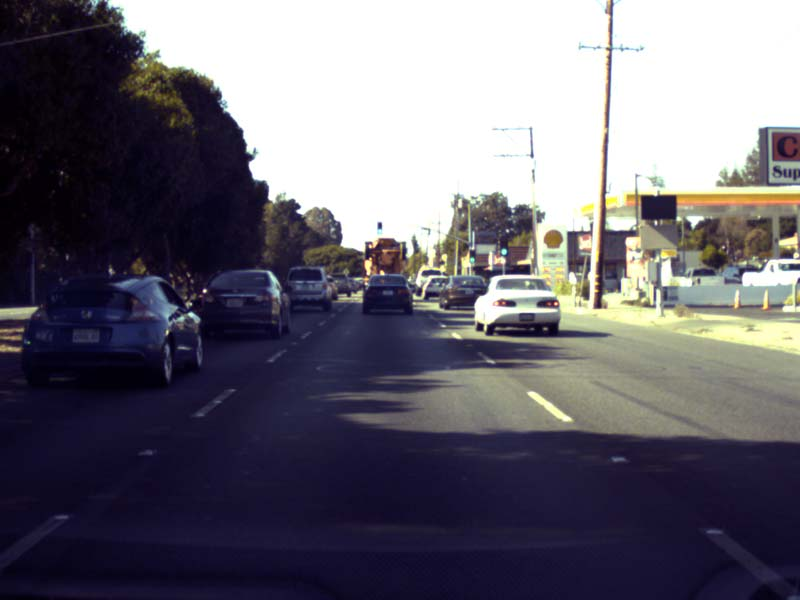Green: (499, 237, 507, 256), (376, 221, 382, 234), (470, 250, 474, 263)
